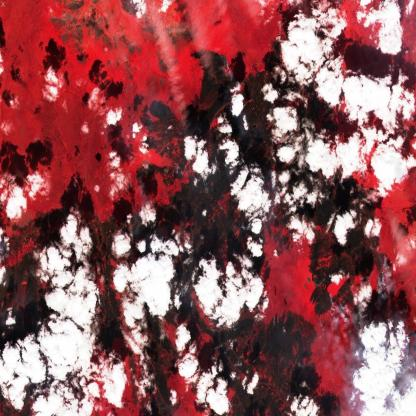fire: (315, 249, 391, 330), (213, 46, 233, 72), (131, 163, 146, 188)
